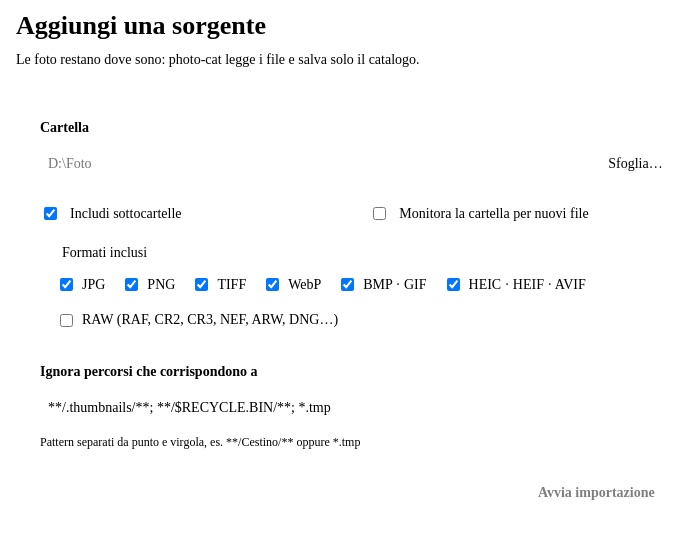
Test: Importa › mostra l'errore del backend (cartella inesistente)
Type "X:\\nope" into the field labelled "Cartella" at (314, 164), box left=40, top=144, right=588, bottom=184
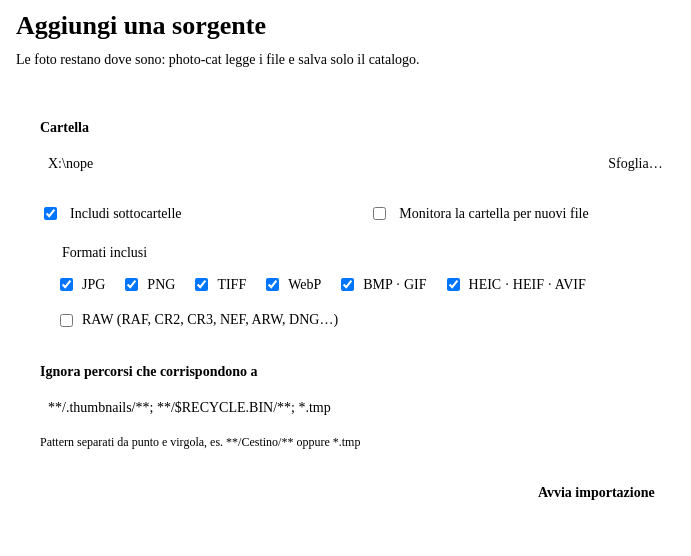
Click the button "Avvia importazione" at (596, 492), box left=518, top=470, right=675, bottom=514
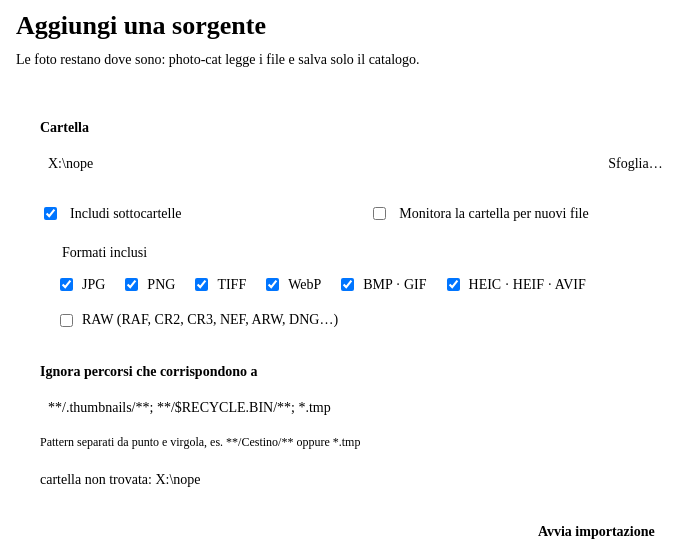
Result: the message shows "cartella non trovata" at left=40, top=472, right=201, bottom=487
